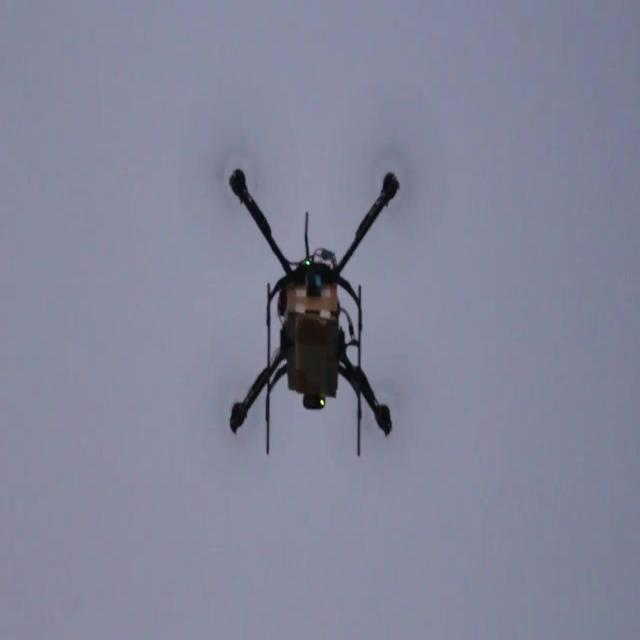drone: (229, 168, 400, 455)
